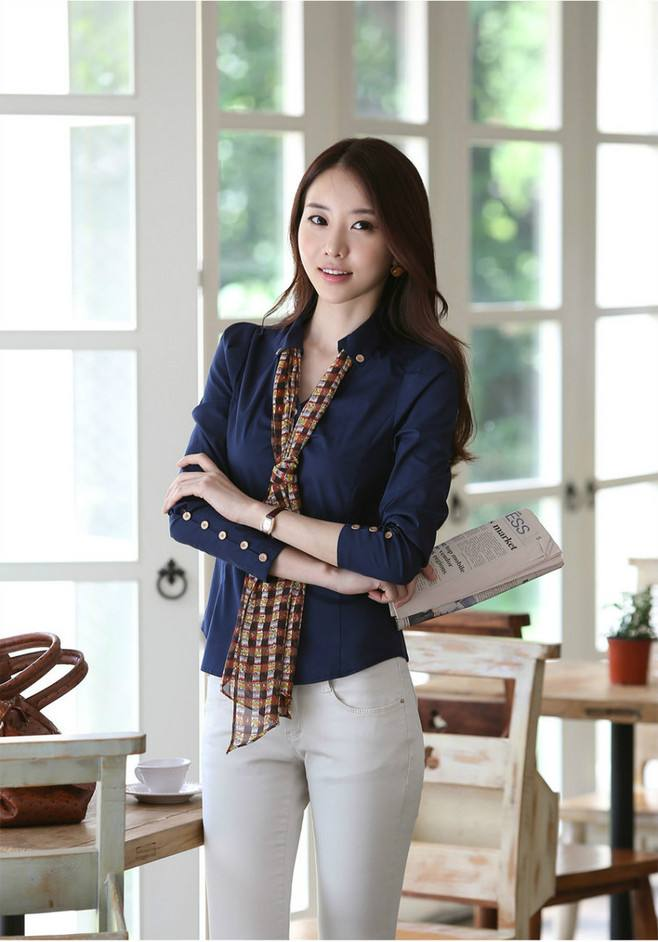person: (124, 47, 498, 795)
